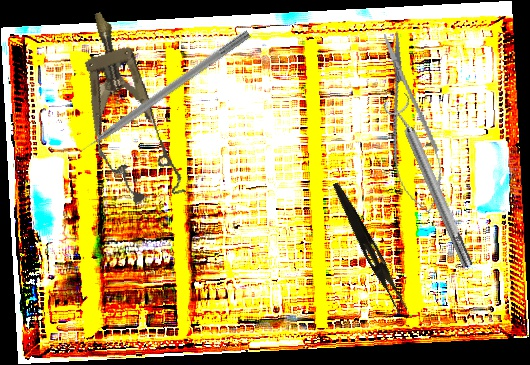Dressing Forceps: (325, 180, 413, 315)
Fixation Ring: (381, 91, 481, 273)
Micro Scissor: (366, 27, 453, 219)
Pusher: (63, 27, 252, 165)
Speculum: (61, 2, 189, 212)
